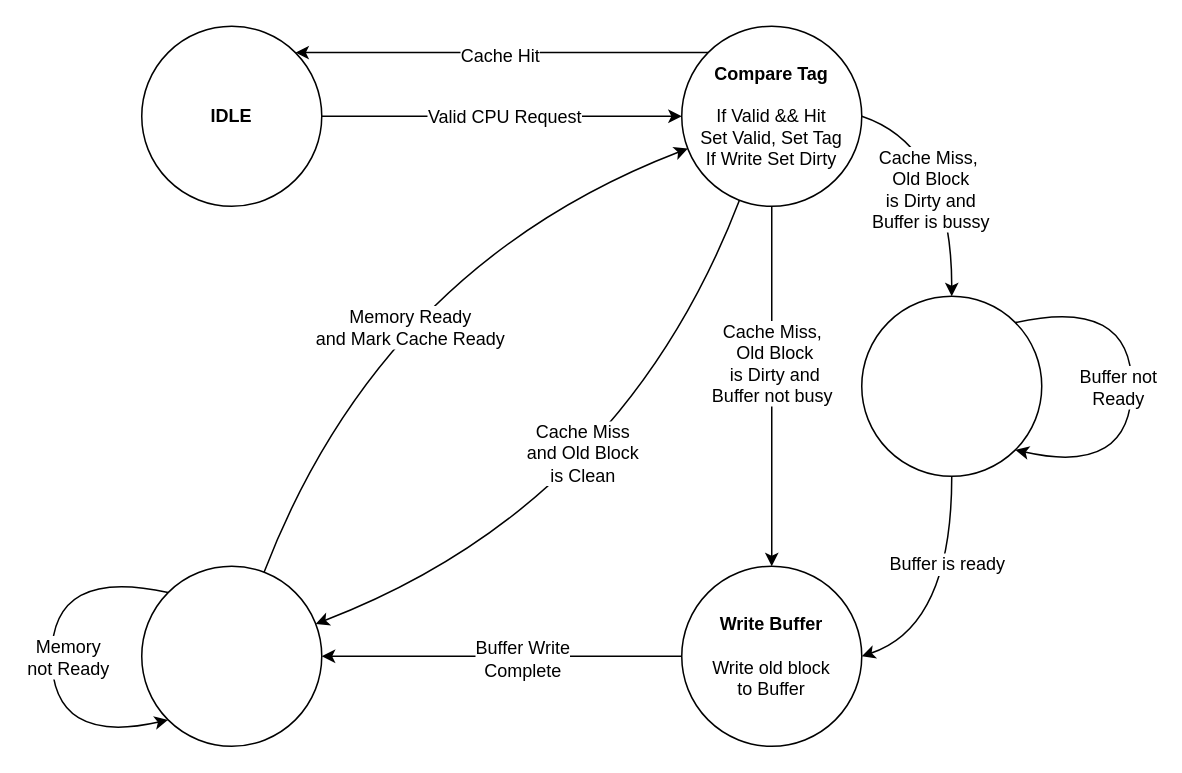
Image size: 1182x773. Some labels were removed from this diagram. Each missing label, with the box of its shape:
Allocate Read new block from Memory: (140, 565, 322, 746)
Wait Buffer Wait until buffer is available: (860, 295, 1042, 476)
